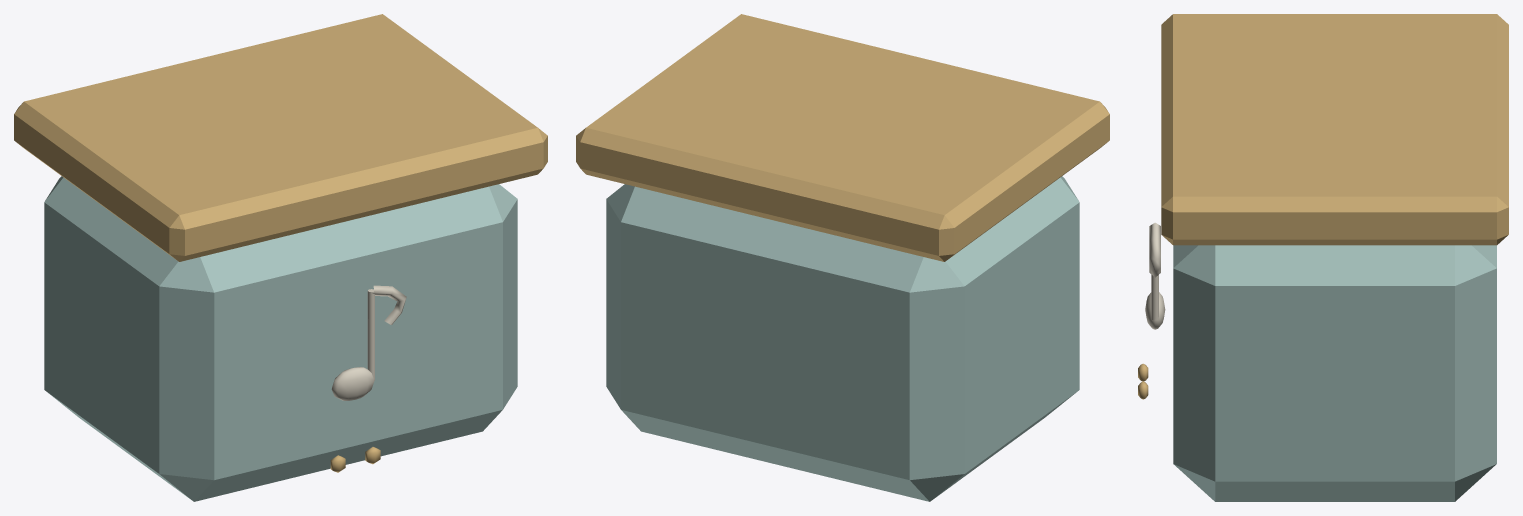
3 renders of one model, left to right at view 1: azimuth 30°, elevation 25°; view 2: azimuth 150°, elevation 25°; view 3: azimuth 270°, elevation 25°, orthographic. The views are drawn at different scales.
Visible parts, largest first — view 1: g_s76; view 2: g_s76; view 3: g_s76.
Boxes of the visible parts, x1,y1,x2,y2 form: g_s76: (14, 14, 547, 501); g_s76: (576, 14, 1109, 501); g_s76: (1138, 14, 1508, 501).
Size of the model in its own units: 0.38 by 0.2975 by 0.3093.
